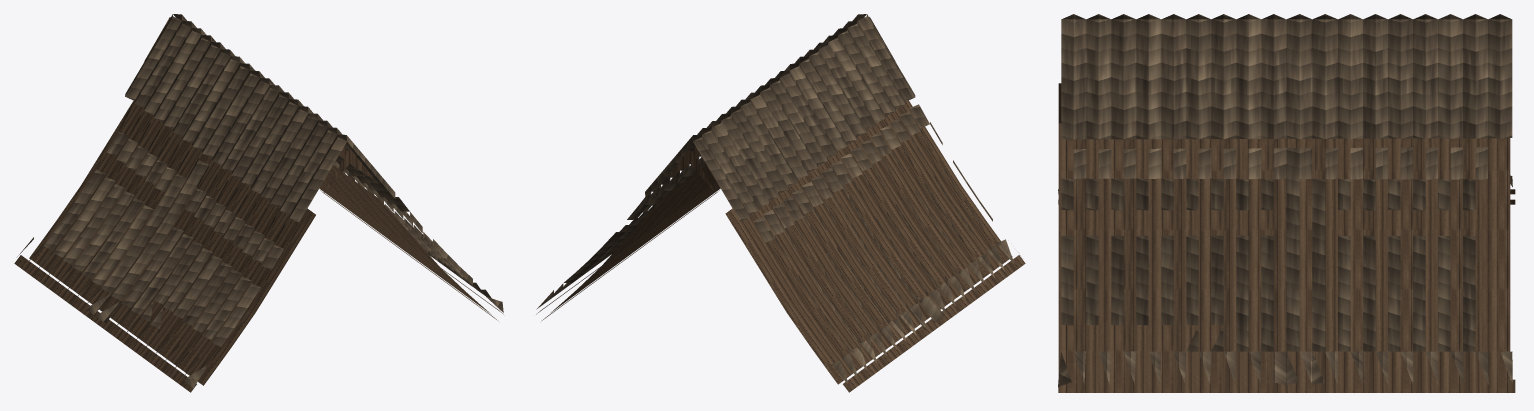
File: Roof_Shingle_8x8_LOD1.gltf
3 renders of one model, left to right at view 1: azimuth 30°, elevation 25°; view 2: azimuth 150°, elevation 25°; view 3: azimuth 270°, elevation 25°, orthographic. The views are drawn at different scales.
Visible parts, largest first — view 1: Roof_Shingle_8x8_LOD1; view 2: Roof_Shingle_8x8_LOD1; view 3: Roof_Shingle_8x8_LOD1.
Part boxes in pixels (x1,y1,x2,y2): Roof_Shingle_8x8_LOD1: (14,14,503,392); Roof_Shingle_8x8_LOD1: (536,14,1025,392); Roof_Shingle_8x8_LOD1: (1058,14,1515,392).
Size of the model in its own units: 9.95 by 6.54 by 9.71.
Materials: 2 (2 with a texture image).
